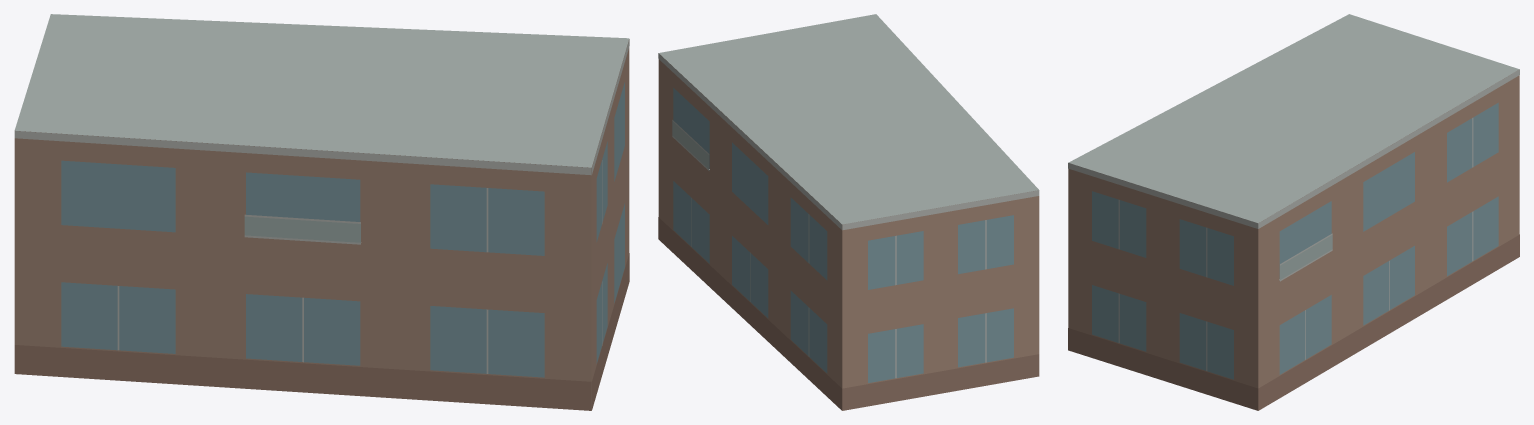
File: survey-upis-32766368.glb
3 views of the same model, side by side, from view 1: azimuth 30°, elevation 25°; view 2: azimuth 150°, elevation 25°; view 3: azimuth 270°, elevation 25° (orthographic). The views are drawn at different scales.
Visible parts, largest first — view 1: survey-upis-32766368.tmp; view 2: survey-upis-32766368.tmp; view 3: survey-upis-32766368.tmp.
Part boxes in pixels (left/top/right/bottom): survey-upis-32766368.tmp: left=14, top=14, right=629, bottom=410; survey-upis-32766368.tmp: left=658, top=14, right=1039, bottom=410; survey-upis-32766368.tmp: left=1068, top=14, right=1519, bottom=410.
Size of the model in its own units: 18.79 by 7.85 by 17.13.
